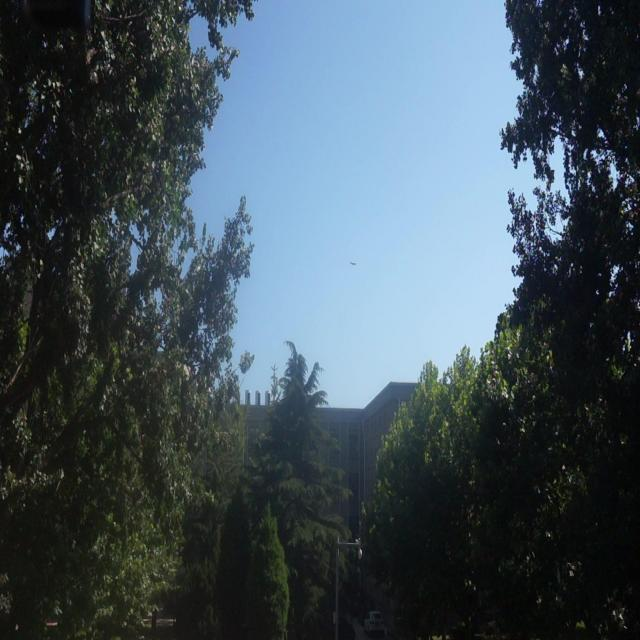UAV: (349, 261, 356, 265)
